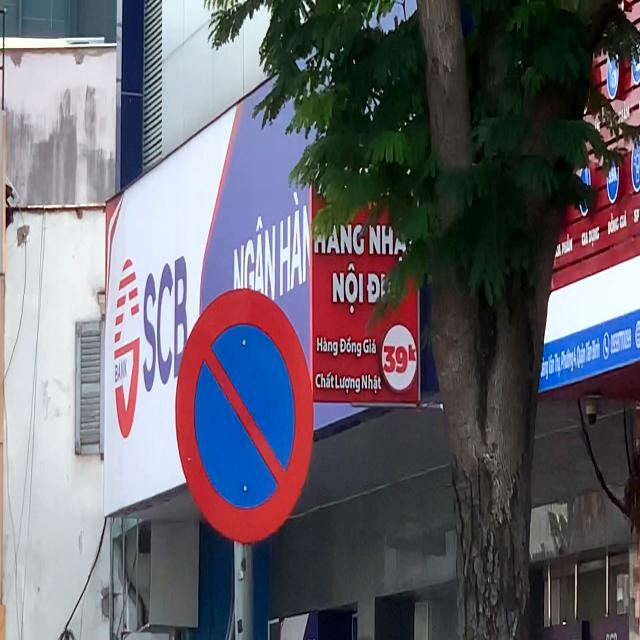P.131a: (173, 285, 314, 547)
